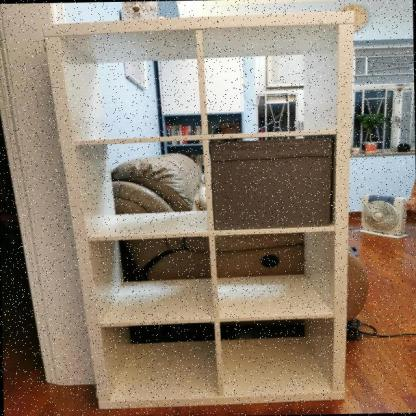Shelf: (34, 11, 366, 416)
